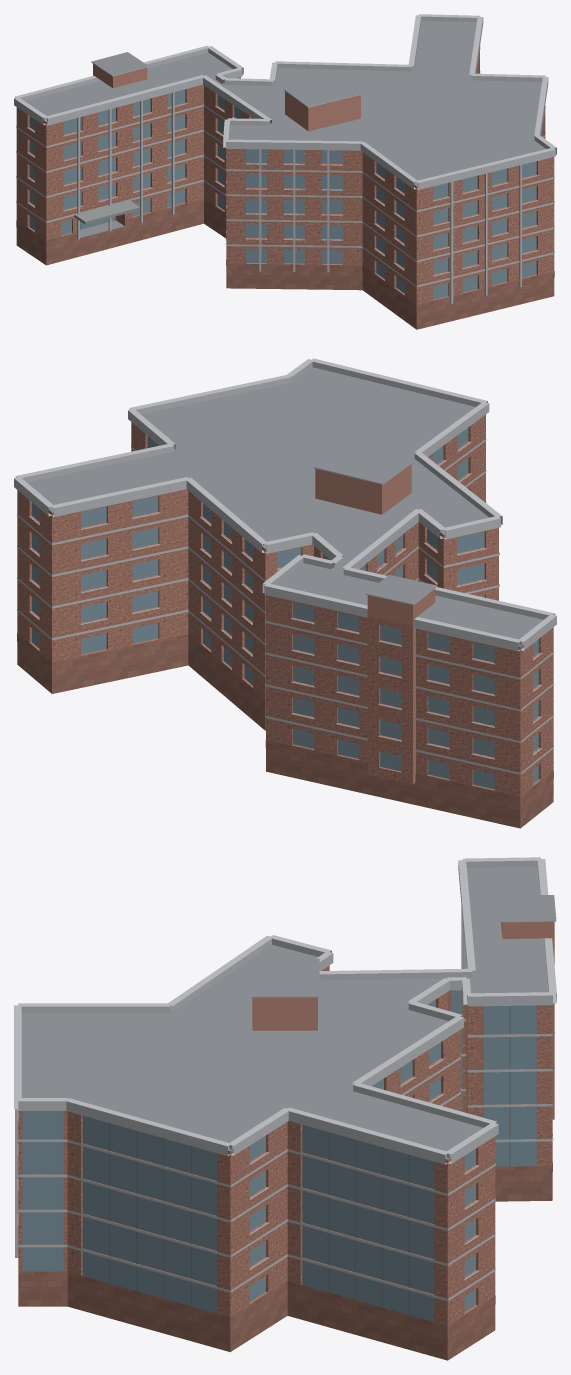
3 renders of one model, top to bottom at view 1: azimuth 30°, elevation 25°; view 2: azimuth 150°, elevation 25°; view 3: azimuth 270°, elevation 25°, orthographic. The views are drawn at different scales.
Parts seen in each view (by area): view 1: heemangGwanW4_4__wall, heemangGwanW4_4__roof, heemangGwanW4_4__trim, heemangGwanW4_4__glass, heemangGwanW4_4__base, heemangGwanW4_4__wall2, heemangGwanW4_4__canopy; view 2: heemangGwanW4_4__wall, heemangGwanW4_4__roof, heemangGwanW4_4__trim, heemangGwanW4_4__glass, heemangGwanW4_4__base, heemangGwanW4_4__wall2; view 3: heemangGwanW4_4__roof, heemangGwanW4_4__glass, heemangGwanW4_4__wall, heemangGwanW4_4__trim, heemangGwanW4_4__base, heemangGwanW4_4__wall2, heemangGwanW4_4__frame.
Part boxes in pixels (<box>): heemangGwanW4_4__wall: <box>16,47,554,311</box>; heemangGwanW4_4__roof: <box>25,21,545,237</box>; heemangGwanW4_4__trim: <box>14,14,556,303</box>; heemangGwanW4_4__glass: <box>29,67,542,299</box>; heemangGwanW4_4__base: <box>16,199,554,329</box>; heemangGwanW4_4__wall2: <box>93,64,360,131</box>; heemangGwanW4_4__canopy: <box>74,200,140,224</box>; heemangGwanW4_4__wall: <box>17,414,553,804</box>; heemangGwanW4_4__roof: <box>27,367,543,646</box>; heemangGwanW4_4__trim: <box>14,358,556,774</box>; heemangGwanW4_4__glass: <box>32,428,538,789</box>; heemangGwanW4_4__base: <box>17,633,553,828</box>; heemangGwanW4_4__wall2: <box>315,464,435,783</box>; heemangGwanW4_4__roof: <box>21,867,556,1159</box>; heemangGwanW4_4__glass: <box>22,990,536,1321</box>; heemangGwanW4_4__wall: <box>18,965,552,1334</box>; heemangGwanW4_4__trim: <box>14,857,556,1300</box>; heemangGwanW4_4__base: <box>18,1162,552,1360</box>; heemangGwanW4_4__wall2: <box>252,921,554,1119</box>; heemangGwanW4_4__frame: <box>109,1006,510,1314</box>.
Bounding box in the file's own units: 61.92 × 22.9 × 47.74.
9 materials, 2 textured.
